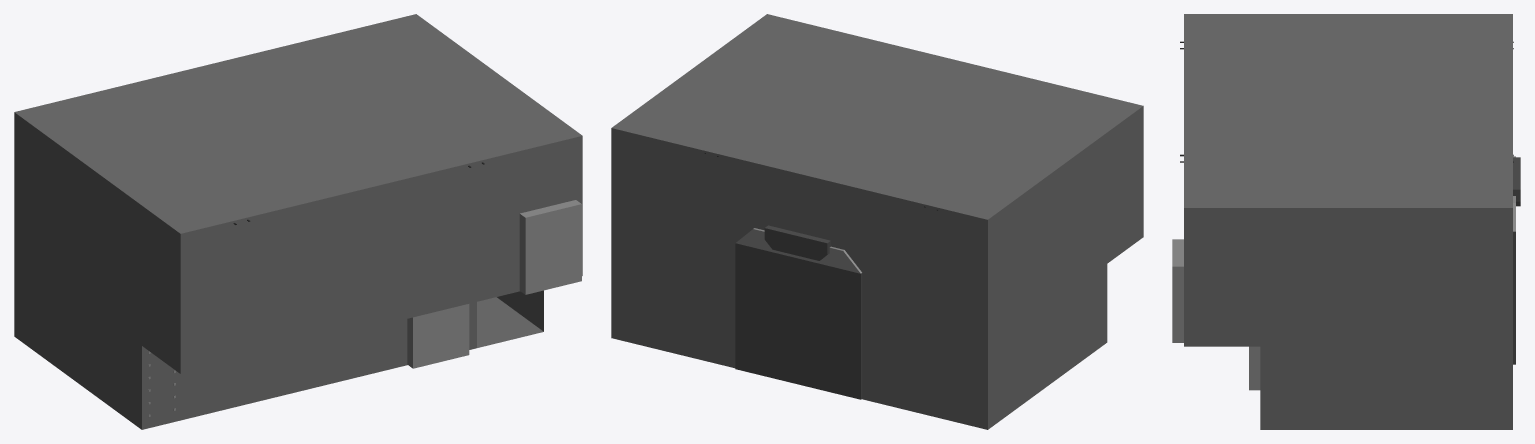
The model's file is Hangar.fbx.
3 renders of one model, left to right at view 1: azimuth 30°, elevation 25°; view 2: azimuth 150°, elevation 25°; view 3: azimuth 270°, elevation 25°, orthographic. The views are drawn at different scales.
Visible parts, largest first — view 1: Hangar, Cube.030, Cube.032; view 2: Hangar, Cube.033, Cube.034; view 3: Hangar, Cube.030, Cube.032, Cube.033, Cube.034.
Part boxes in pixels (bbox=[...]): Hangar: bbox=[14, 14, 582, 429]; Cube.030: bbox=[519, 200, 581, 294]; Cube.032: bbox=[407, 304, 469, 368]; Hangar: bbox=[611, 14, 1143, 429]; Cube.033: bbox=[735, 228, 862, 399]; Cube.034: bbox=[764, 225, 830, 260]; Hangar: bbox=[1184, 14, 1512, 429]; Cube.030: bbox=[1172, 239, 1183, 342]; Cube.032: bbox=[1249, 346, 1260, 390]; Cube.033: bbox=[1513, 156, 1515, 364]; Cube.034: bbox=[1513, 157, 1520, 206].
Bounding box in the file's own units: 6000 × 3200 × 4550.
